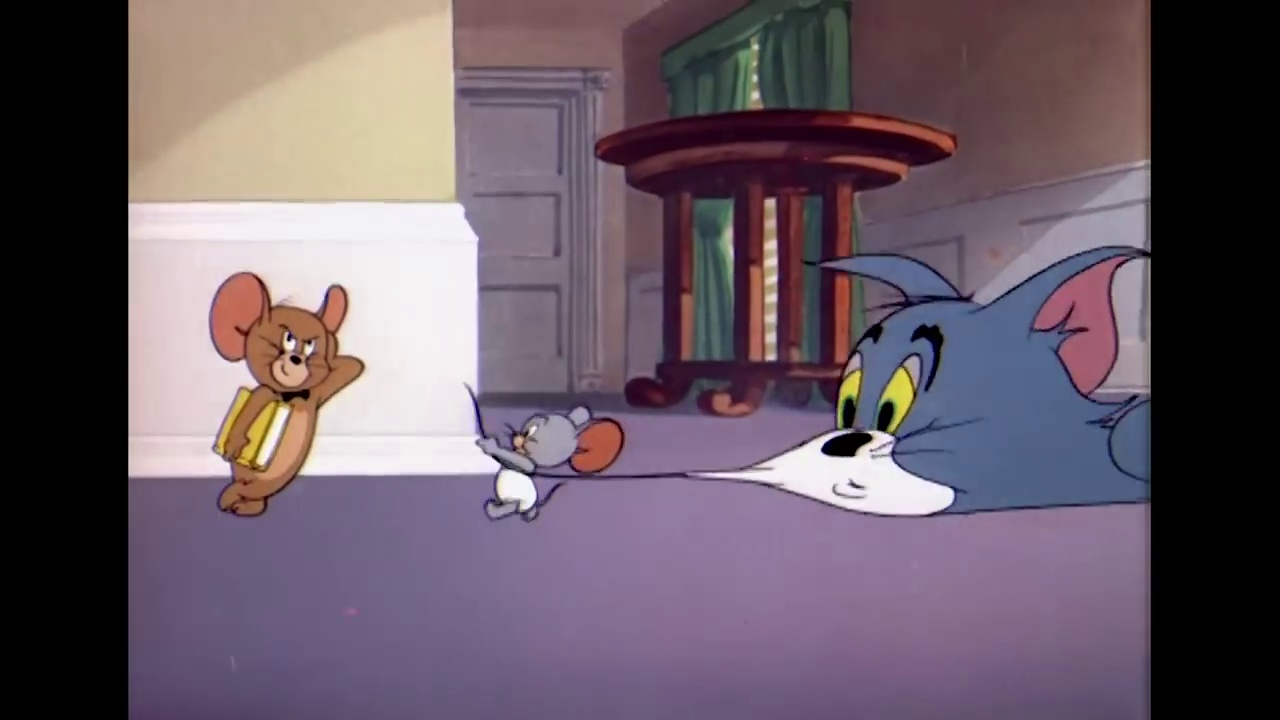tom: (773, 239, 1143, 527)
